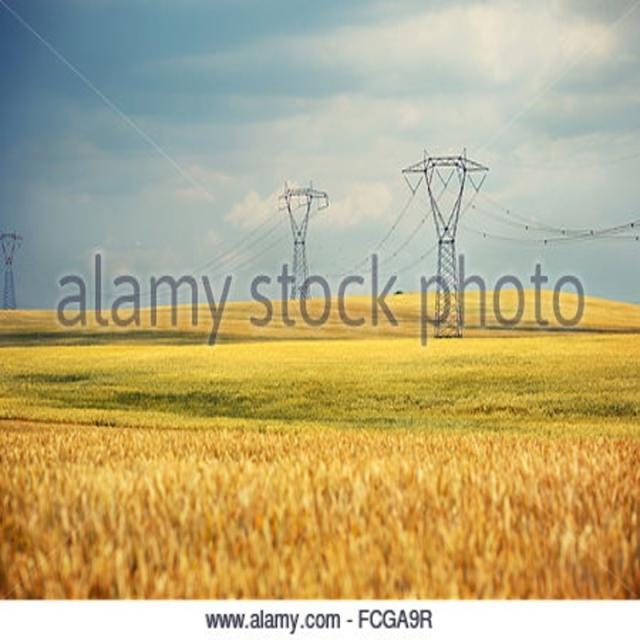non-critical vegetation: (394, 134, 494, 317), (274, 178, 326, 298)
